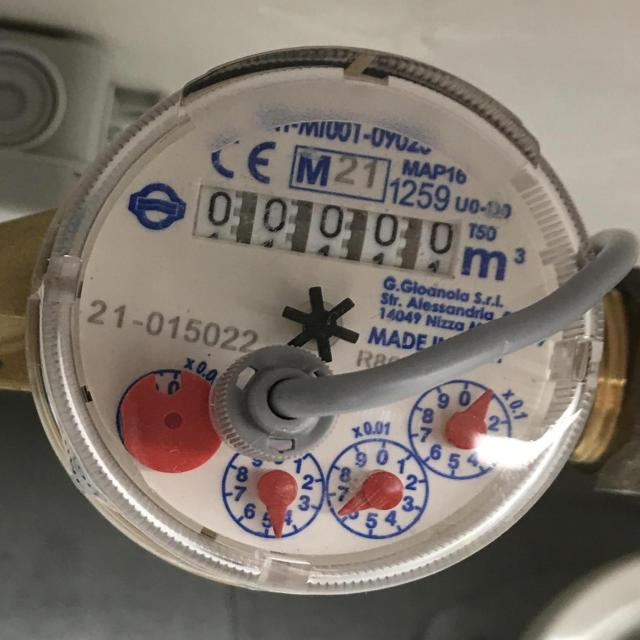gaz_meter: (50, 71, 600, 569)
indication: (190, 180, 462, 280)
